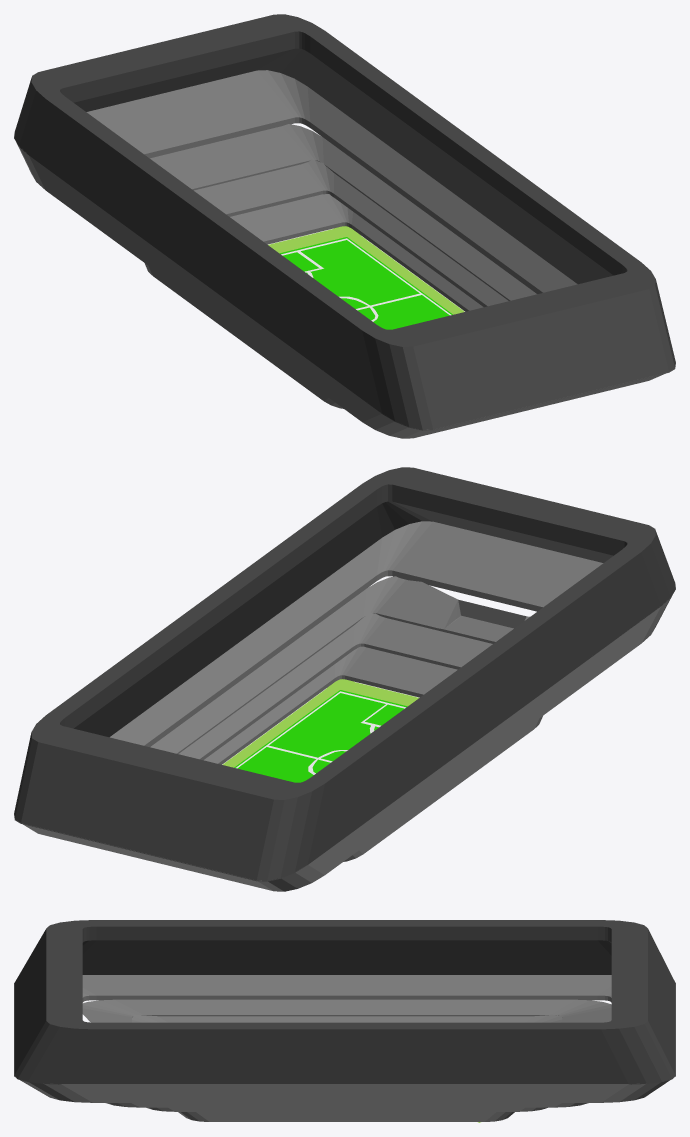
Rendered from FootballStadium.fbx.
The picture shows the model from 3 angles, top to bottom: view 1: azimuth 30°, elevation 25°; view 2: azimuth 150°, elevation 25°; view 3: azimuth 270°, elevation 25°; orthographic projection. The views are drawn at different scales.
Parts seen in each view (by area): view 1: SeatSection4.001, SeatSection4, SeatSection3, SeatSection2, SeatSection1, MatchField, Field; view 2: SeatSection4.001, SeatSection4, SeatSection3, SeatSection2, SeatSection1, MatchField, Field; view 3: SeatSection4.001, SeatSection4, SeatSection3, SeatSection2, SeatSection1.
Boxes of the visible parts, x1=… form: SeatSection4.001: x1=14, y1=14, x2=675, y2=430; SeatSection4: x1=14, y1=70, x2=675, y2=438; SeatSection3: x1=150, y1=124, x2=536, y2=300; SeatSection2: x1=194, y1=159, x2=508, y2=307; SeatSection1: x1=144, y1=194, x2=483, y2=408; MatchField: x1=279, y1=237, x2=452, y2=329; Field: x1=268, y1=226, x2=464, y2=314; SeatSection4.001: x1=14, y1=467, x2=675, y2=881; SeatSection4: x1=14, y1=521, x2=675, y2=891; SeatSection3: x1=150, y1=576, x2=529, y2=753; SeatSection2: x1=178, y1=612, x2=492, y2=760; SeatSection1: x1=204, y1=646, x2=542, y2=861; MatchField: x1=234, y1=690, x2=407, y2=782; Field: x1=222, y1=679, x2=418, y2=767; SeatSection4.001: x1=14, y1=920, x2=675, y2=1084; SeatSection4: x1=14, y1=975, x2=675, y2=1102; SeatSection3: x1=82, y1=999, x2=611, y2=1107; SeatSection2: x1=132, y1=1014, x2=562, y2=1111; SeatSection1: x1=178, y1=1112, x2=514, y2=1121.
Size of the model in its own units: 3792 by 1718 by 9701.
